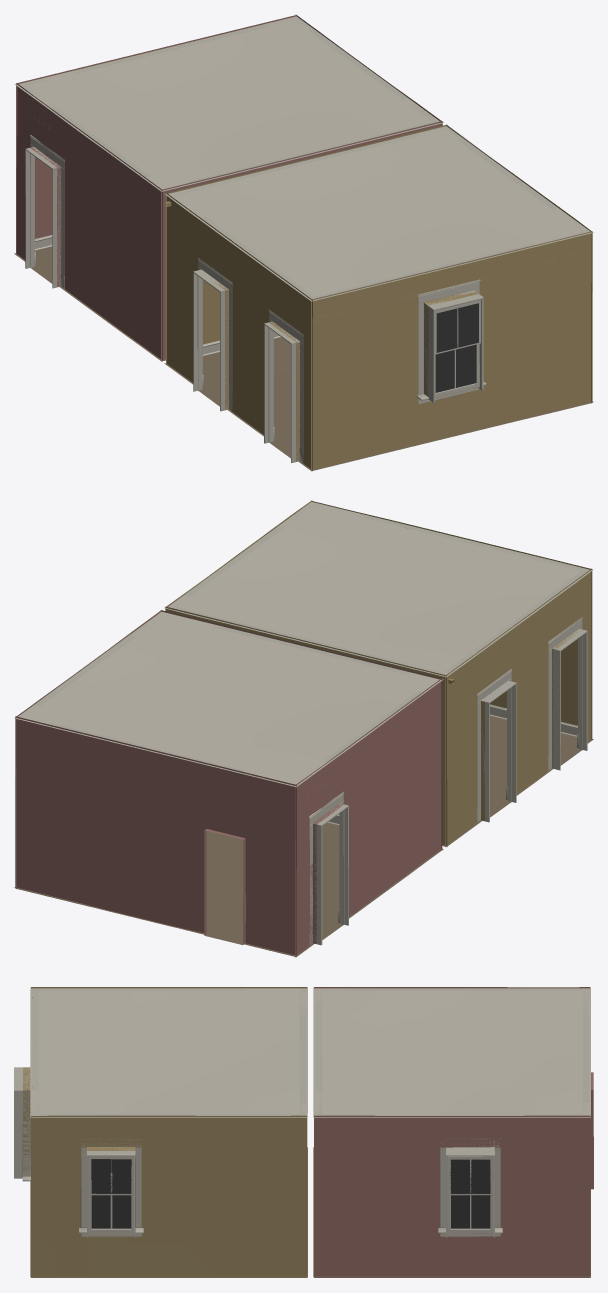
File: house_upper_rooms.glb
3 renders of one model, top to bottom at view 1: azimuth 30°, elevation 25°; view 2: azimuth 150°, elevation 25°; view 3: azimuth 270°, elevation 25°, orthographic. The views are drawn at different scales.
Visible parts, largest first — view 1: U2, U3, U2_glass_O_U2_S; view 2: U3, U2; view 3: U2, U3, U2_glass_O_U2_E, U3_glass_O_U3_E.
Part boxes in pixels (box(x1,y1,x2,y2)): U2: box(164, 124, 593, 471); U3: box(14, 14, 443, 361); U2_glass_O_U2_S: box(435, 303, 478, 392); U3: box(14, 610, 443, 957); U2: box(164, 500, 593, 847); U2: box(14, 987, 307, 1277); U3: box(313, 987, 593, 1277); U2_glass_O_U2_E: box(91, 1159, 131, 1228); U3_glass_O_U3_E: box(450, 1159, 490, 1228).
Size of the model in its own units: 5.45 by 3.25 by 9.53.
